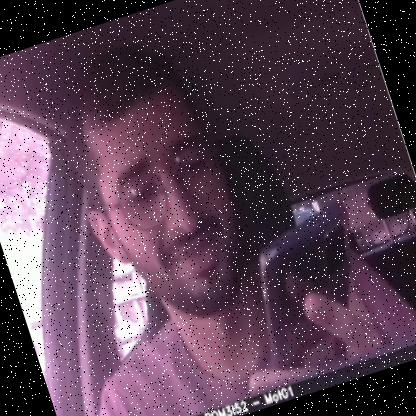phone: (224, 191, 396, 388)
